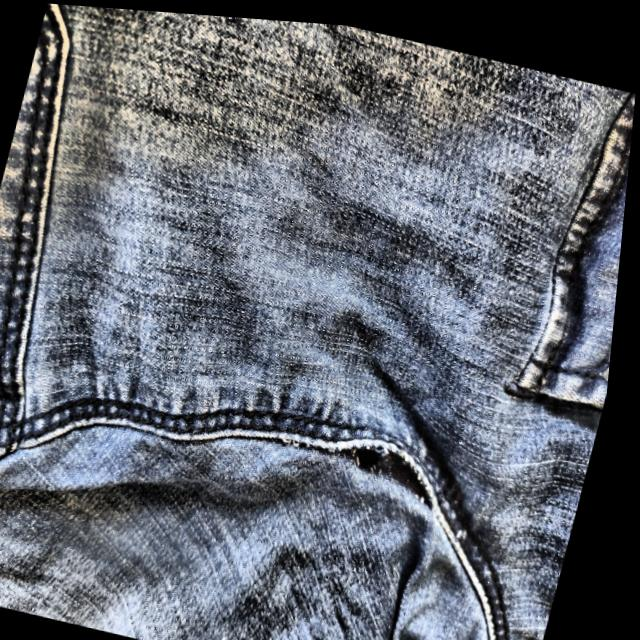seam: (317, 405, 470, 513)
